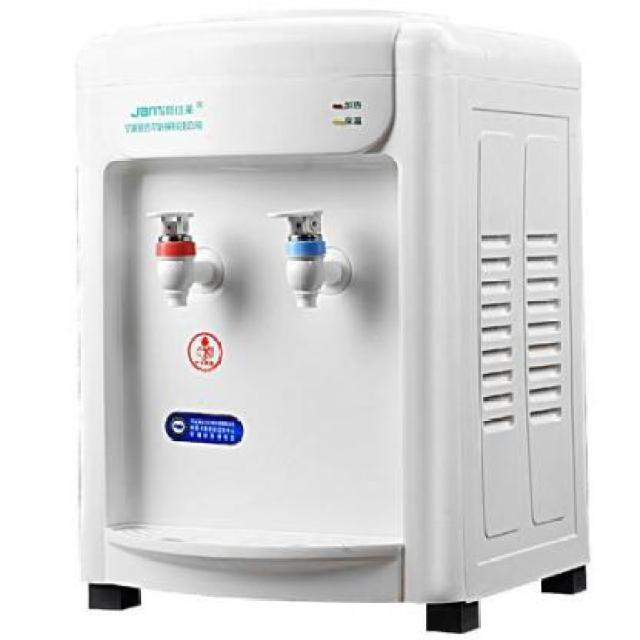cooler: (66, 6, 592, 630)
